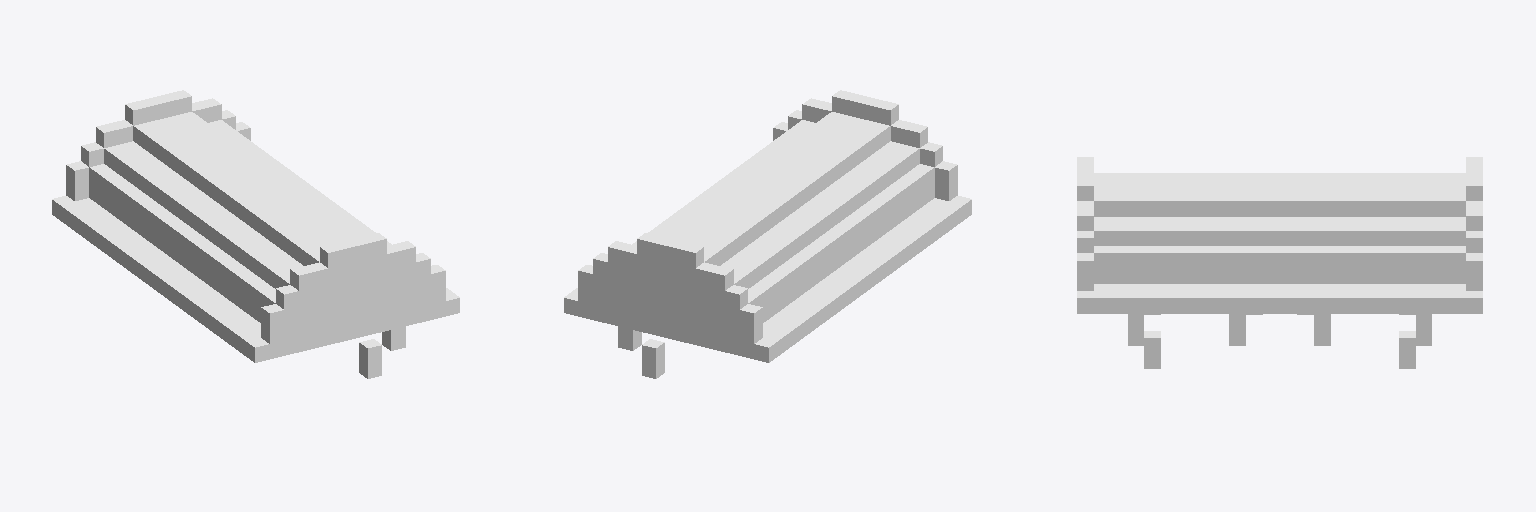
Rendered from Stenka1-10.obj.
3 renders of one model, left to right at view 1: azimuth 30°, elevation 25°; view 2: azimuth 150°, elevation 25°; view 3: azimuth 270°, elevation 25°, orthographic.
Parts seen in each view (by area): view 1: object 1; view 2: object 1; view 3: object 1.
Boxes of the visible parts, x1=… form: object 1: x1=52, y1=90, x2=459, y2=378; object 1: x1=564, y1=90, x2=971, y2=378; object 1: x1=1077, y1=157, x2=1482, y2=368.
Bounding box in the file's own units: 1.4 × 1.1 × 2.4.